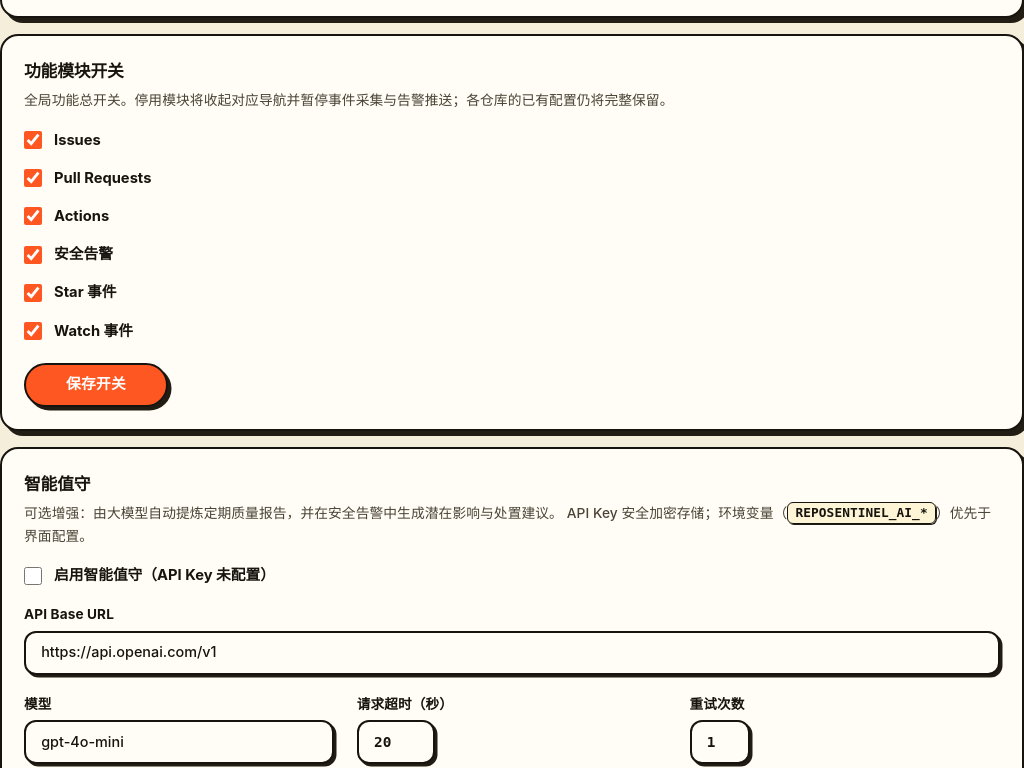
Test: 设置页 › 保存失败时在功能模块区块内展示错误且不出现成功提示
(page scrolled)
Expected: the checkbox labelled "Issues" is shown, left=24, top=131, right=42, bottom=149
Click the button "保存开关" at (96, 385), box left=24, top=363, right=168, bottom=407
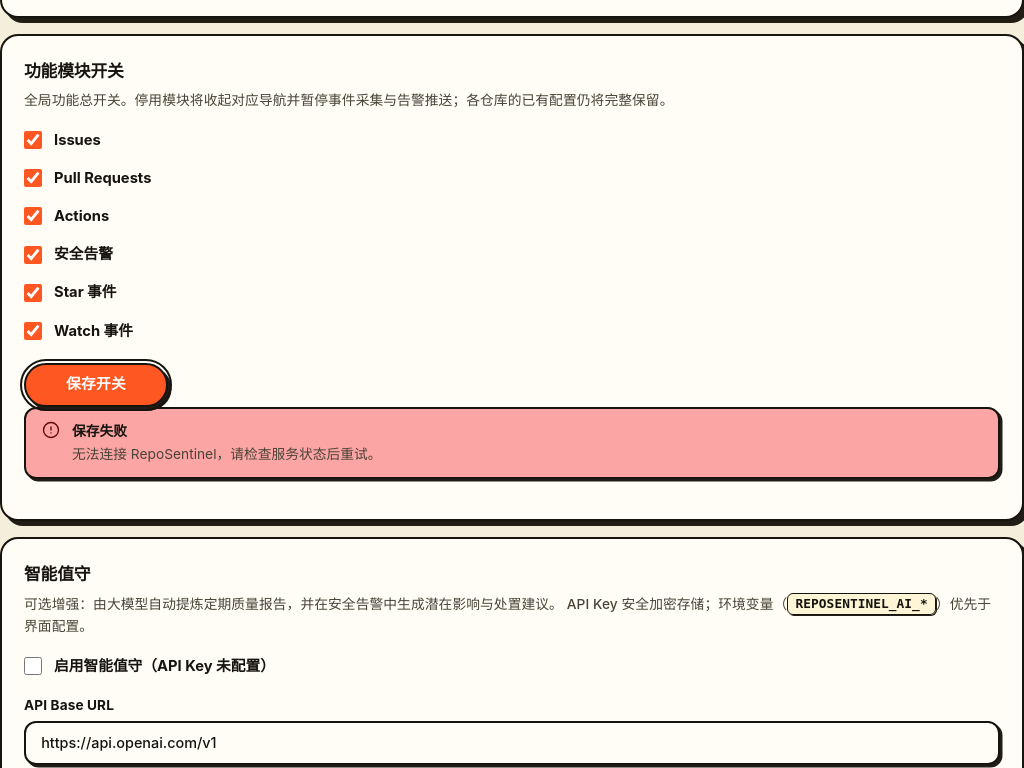
Now the text "保存失败" is shown, box left=72, top=423, right=127, bottom=439
